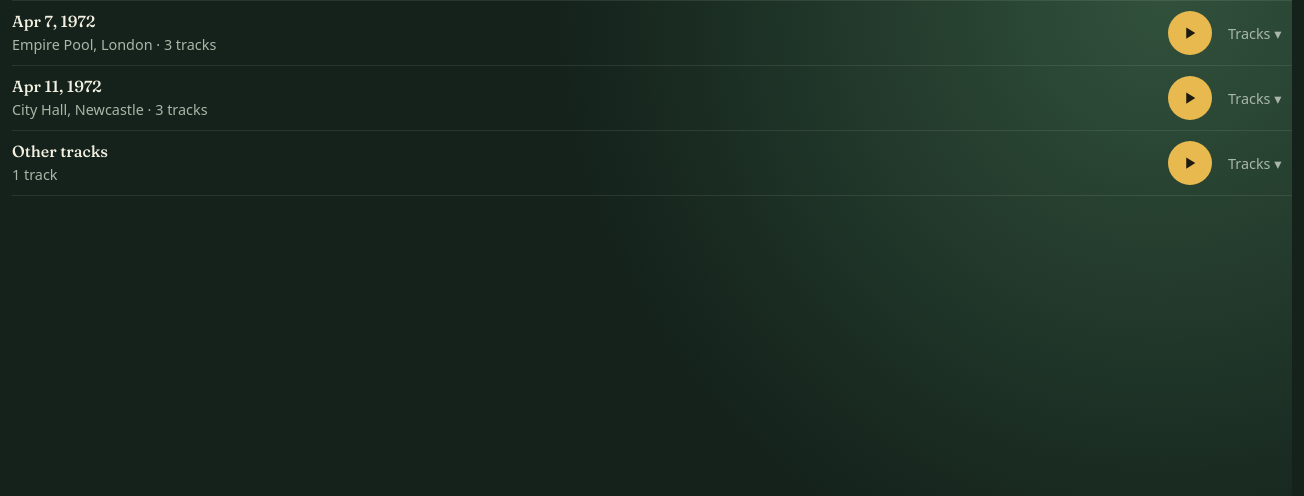
Test: a multi-show record's tracklist › opens a night to its tracks
Expected: the text "Jack Straw" is not shown
Click the button named "Tracks on Apr 7, 1972" at (1258, 33), box [1224,11,1292,55]
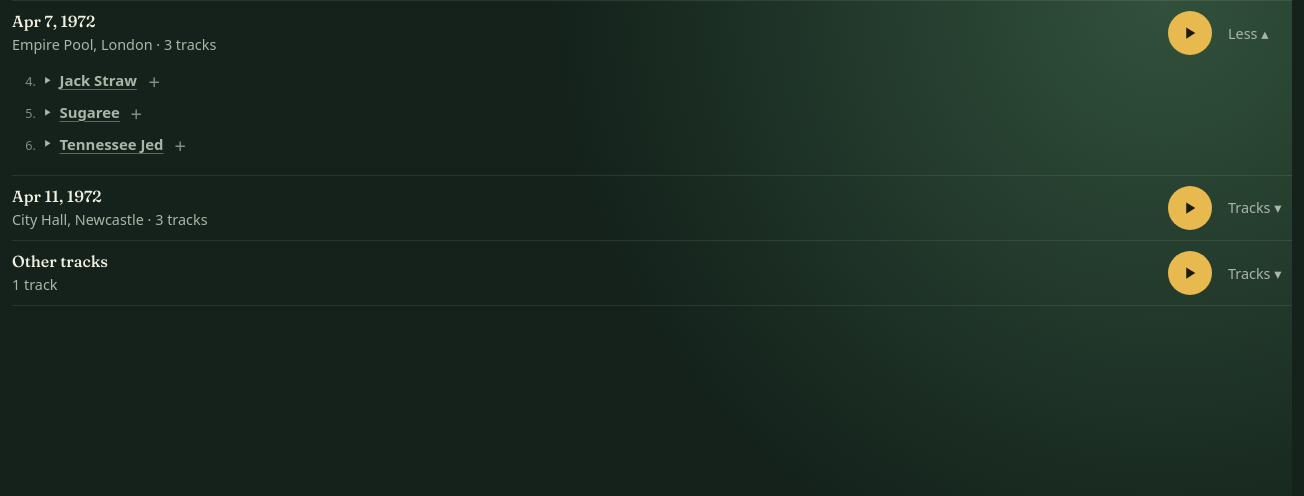
Expected: the text "Jack Straw" is shown, [60,70,137,90]
